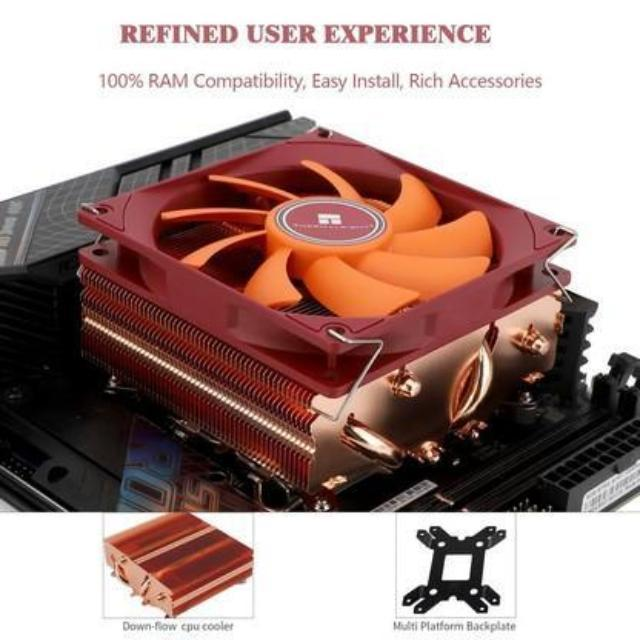CPU_Fan: (84, 126, 562, 491)
